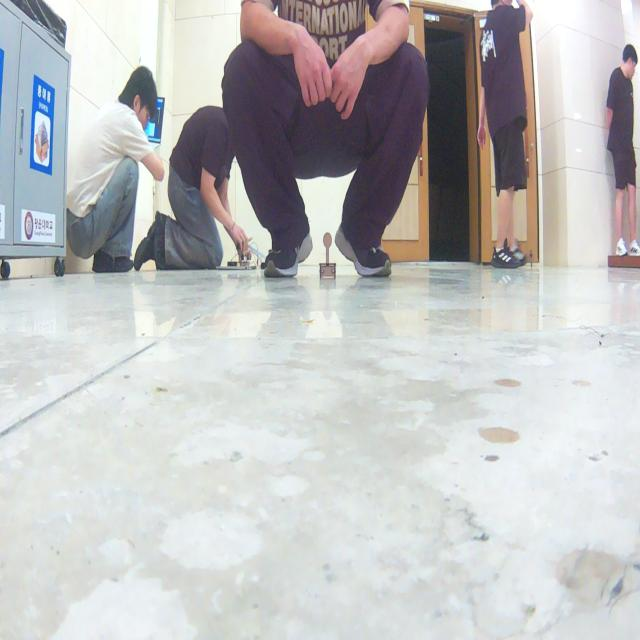target: (319, 232, 336, 278)
